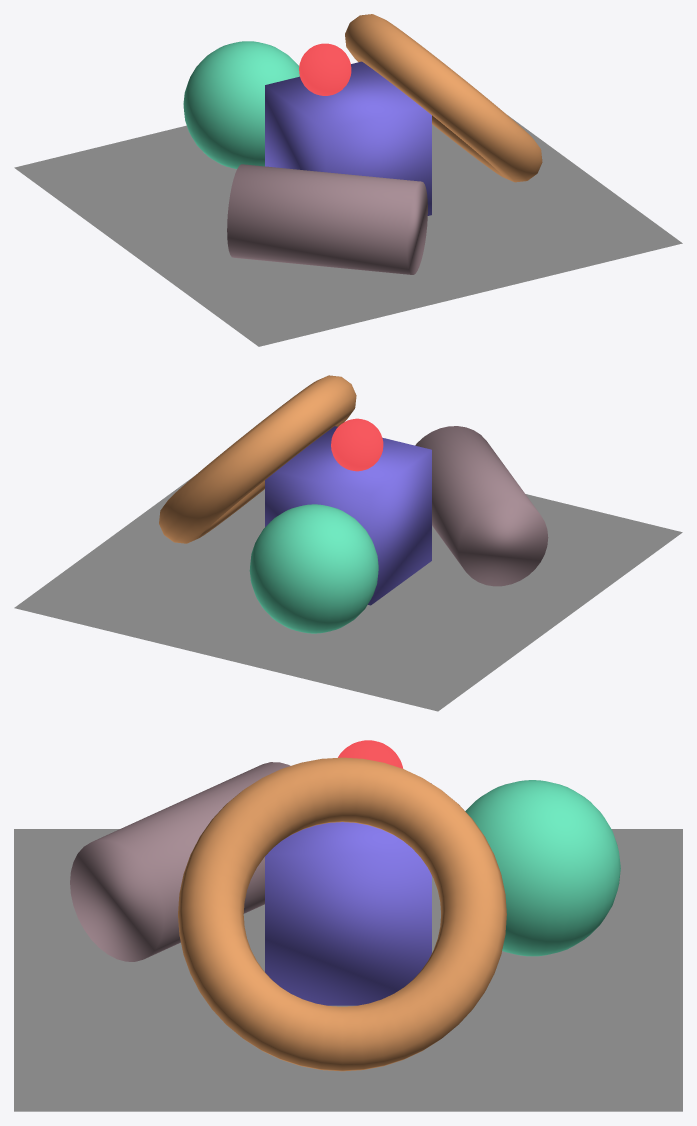
File: lights.glb
3 renders of one model, top to bottom at view 1: azimuth 30°, elevation 25°; view 2: azimuth 150°, elevation 25°; view 3: azimuth 270°, elevation 25°, orthographic. The views are drawn at different scales.
Visible parts, largest first — view 1: Plane, Cylinder, Cube, Torus, Sphere, Sphere.001; view 2: Plane, Cube, Cylinder, Sphere, Torus, Sphere.001; view 3: Plane, Torus, Cube, Sphere, Cylinder, Sphere.001.
Boxes of the visible parts, x1=… form: Plane: x1=14, y1=115, x2=682, y2=346; Cylinder: x1=227, y1=164, x2=427, y2=274; Cube: x1=265, y1=61, x2=431, y2=215; Torus: x1=345, y1=14, x2=542, y2=182; Sphere: x1=183, y1=41, x2=299, y2=168; Sphere.001: x1=299, y1=43, x2=351, y2=95; Plane: x1=14, y1=476, x2=682, y2=711; Cube: x1=265, y1=426, x2=431, y2=605; Cylinder: x1=415, y1=426, x2=548, y2=586; Sphere: x1=249, y1=504, x2=378, y2=633; Torus: x1=159, y1=375, x2=356, y2=543; Sphere.001: x1=331, y1=418, x2=383, y2=471; Plane: x1=14, y1=829, x2=682, y2=1111; Torus: x1=178, y1=757, x2=506, y2=1071; Cube: x1=265, y1=783, x2=431, y2=1005; Sphere: x1=465, y1=780, x2=620, y2=956; Cylinder: x1=70, y1=762, x2=290, y2=961; Sphere.001: x1=338, y1=740, x2=403, y2=768.
Bounding box in the file's own units: 4 × 1.54 × 4.
